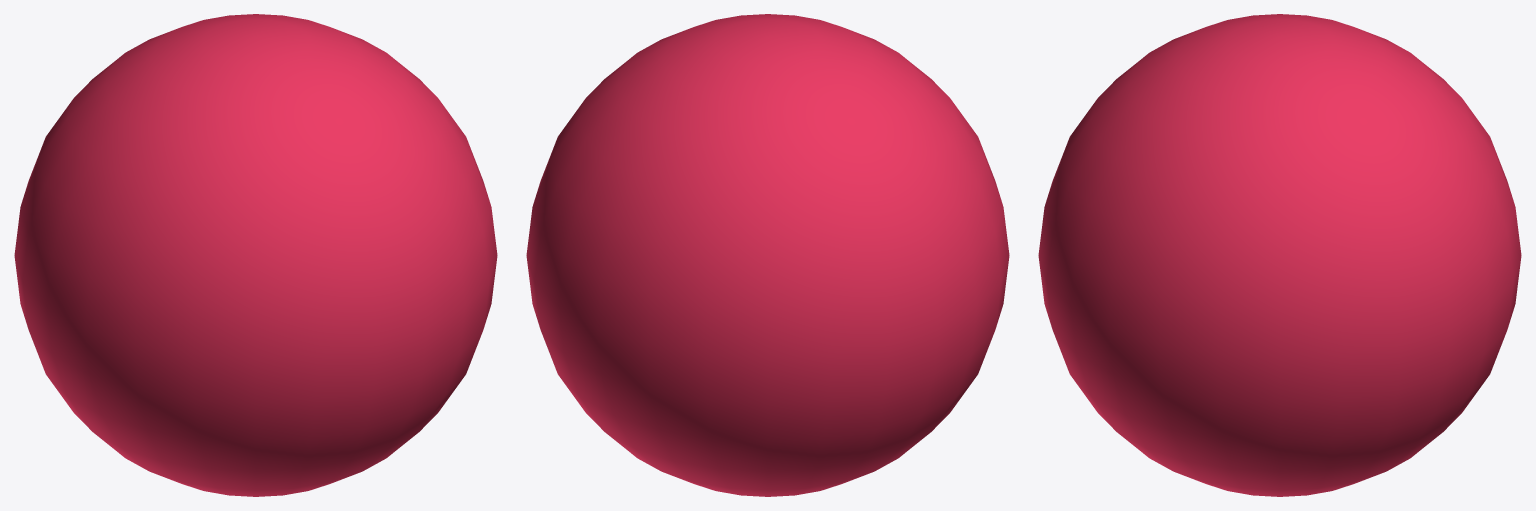
Rendered from Bubble.fbx.
3 views of the same model, side by side, from view 1: azimuth 30°, elevation 25°; view 2: azimuth 150°, elevation 25°; view 3: azimuth 270°, elevation 25° (orthographic).
Parts seen in each view (by area): view 1: Bubble; view 2: Bubble; view 3: Bubble.
Part boxes in pixels (<box>): Bubble: <box>14,14,497,496</box>; Bubble: <box>526,14,1009,496</box>; Bubble: <box>1038,14,1521,496</box>.
Size of the model in its own units: 100 by 100 by 100.
